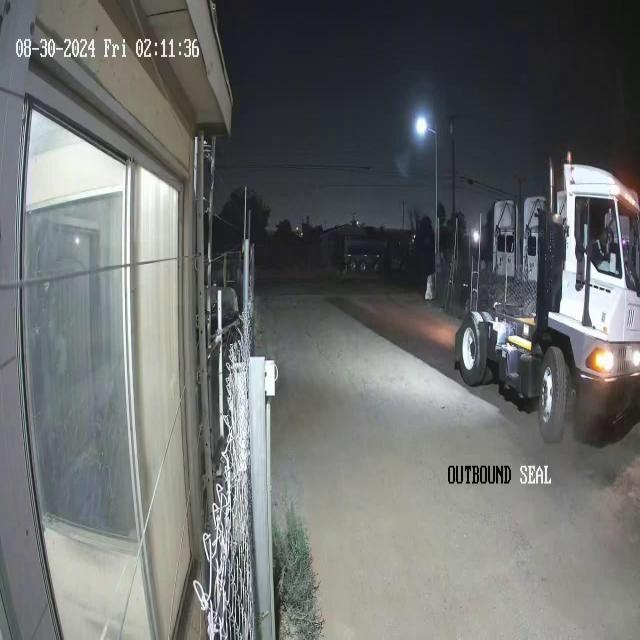TRUCK_IN: (453, 150, 639, 446)
